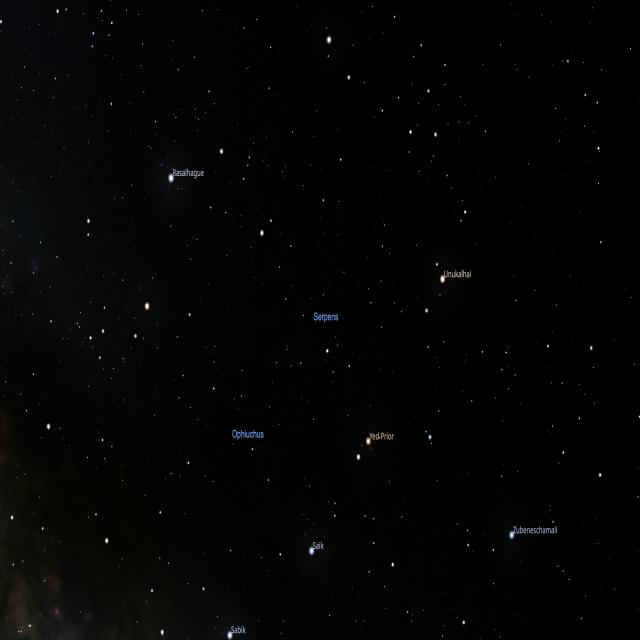Serpens: (143, 168, 364, 640)
